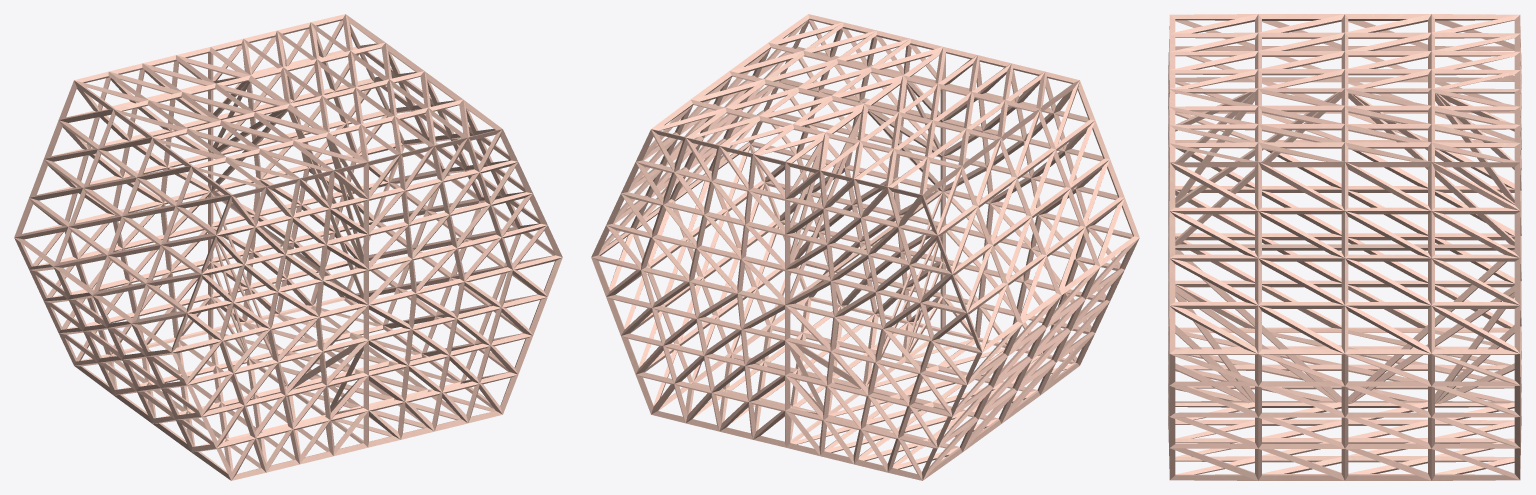
Rendered from loop0-005.glb.
The picture shows the model from 3 angles, left to right: view 1: azimuth 30°, elevation 25°; view 2: azimuth 150°, elevation 25°; view 3: azimuth 270°, elevation 25°; orthographic projection. The views are drawn at different scales.
Visible parts, largest first — view 1: loop0.005; view 2: loop0.005; view 3: loop0.005.
Boxes of the visible parts, x1,y1,x2,y2 form: loop0.005: [14, 14, 562, 480]; loop0.005: [591, 14, 1139, 480]; loop0.005: [1168, 14, 1521, 480].
Bounding box in the file's own units: 2.92 × 2.04 × 2.04.
Materials: 1 (1 with a texture image).
